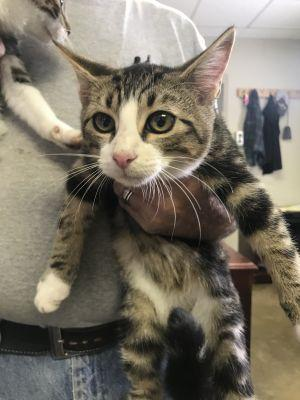bengal: (41, 15, 245, 193)
